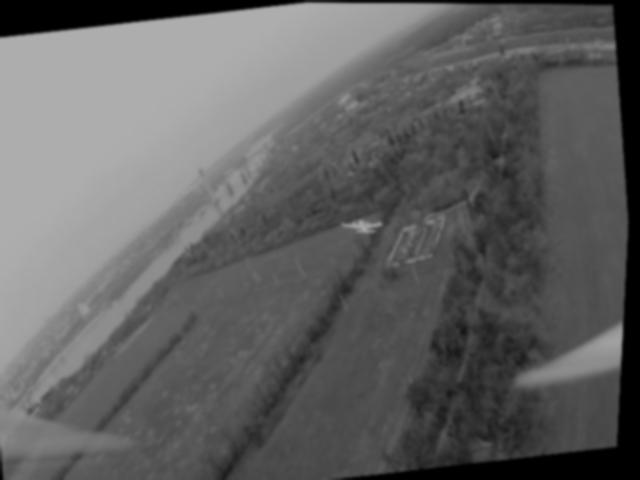hedef: (331, 206, 403, 246)
